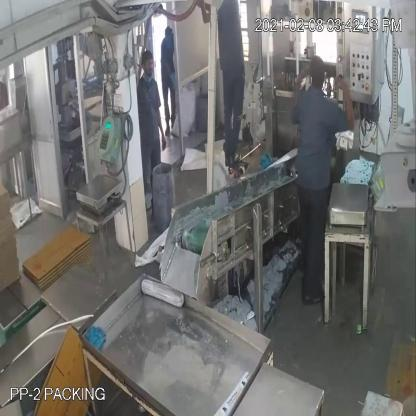no_glove: (332, 72, 362, 140), (155, 100, 171, 159)
